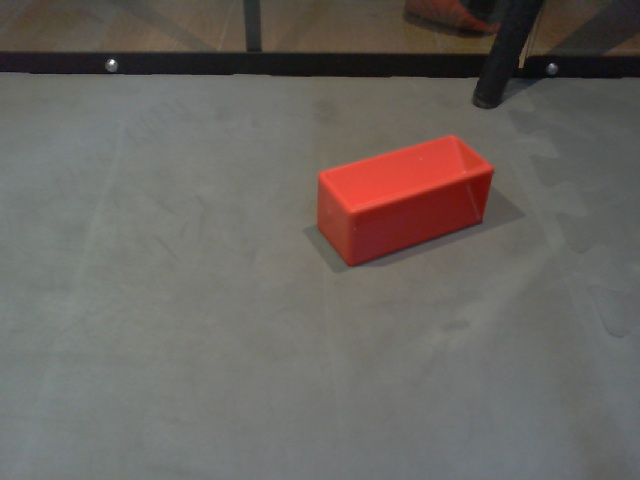RedSample: (312, 132, 496, 270)
